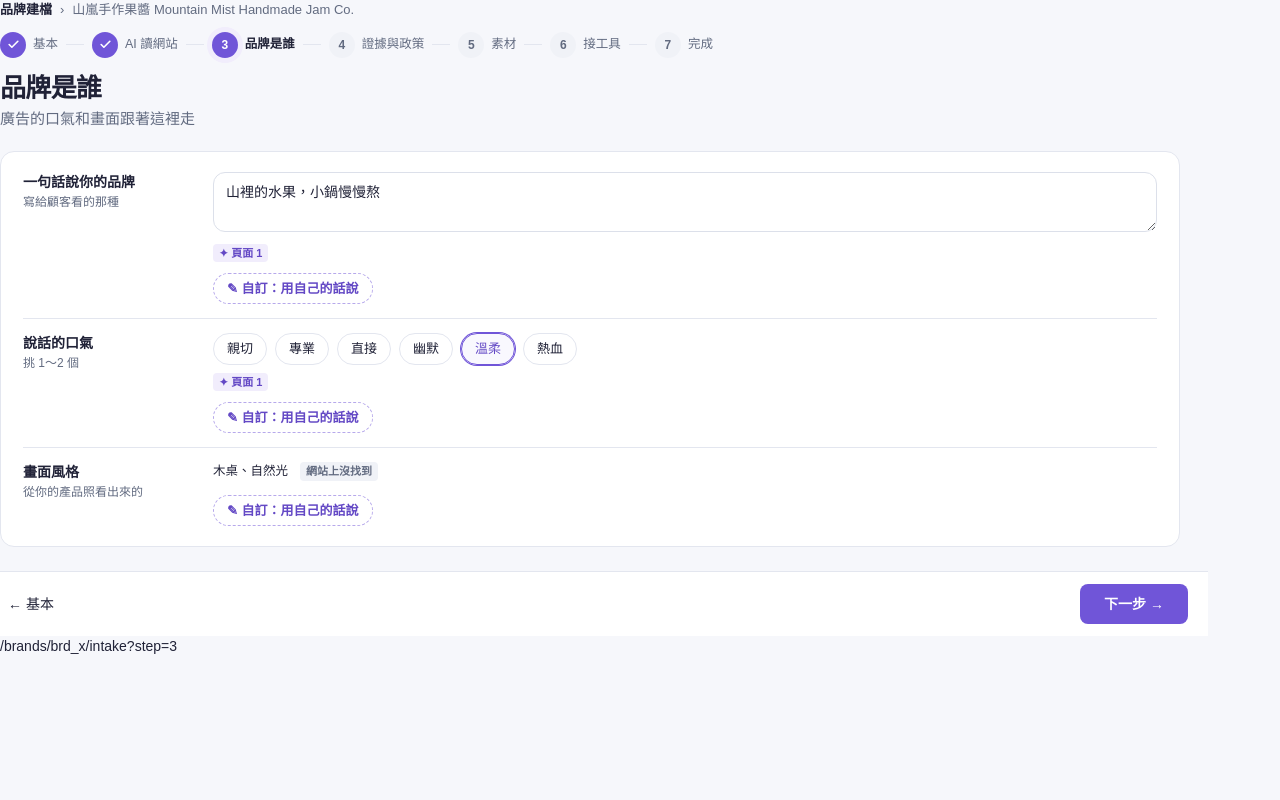
Test: IntakeWizard › 一路按下一步走到接工具
The width and height of the screenshot is (1280, 800).
Expected: the heading "品牌是誰" is shown, x1=0 y1=72 x2=101 y2=102
Click the button "下一步 →".
click(1134, 604)  # box x1=1080 y1=584 x2=1188 y2=624
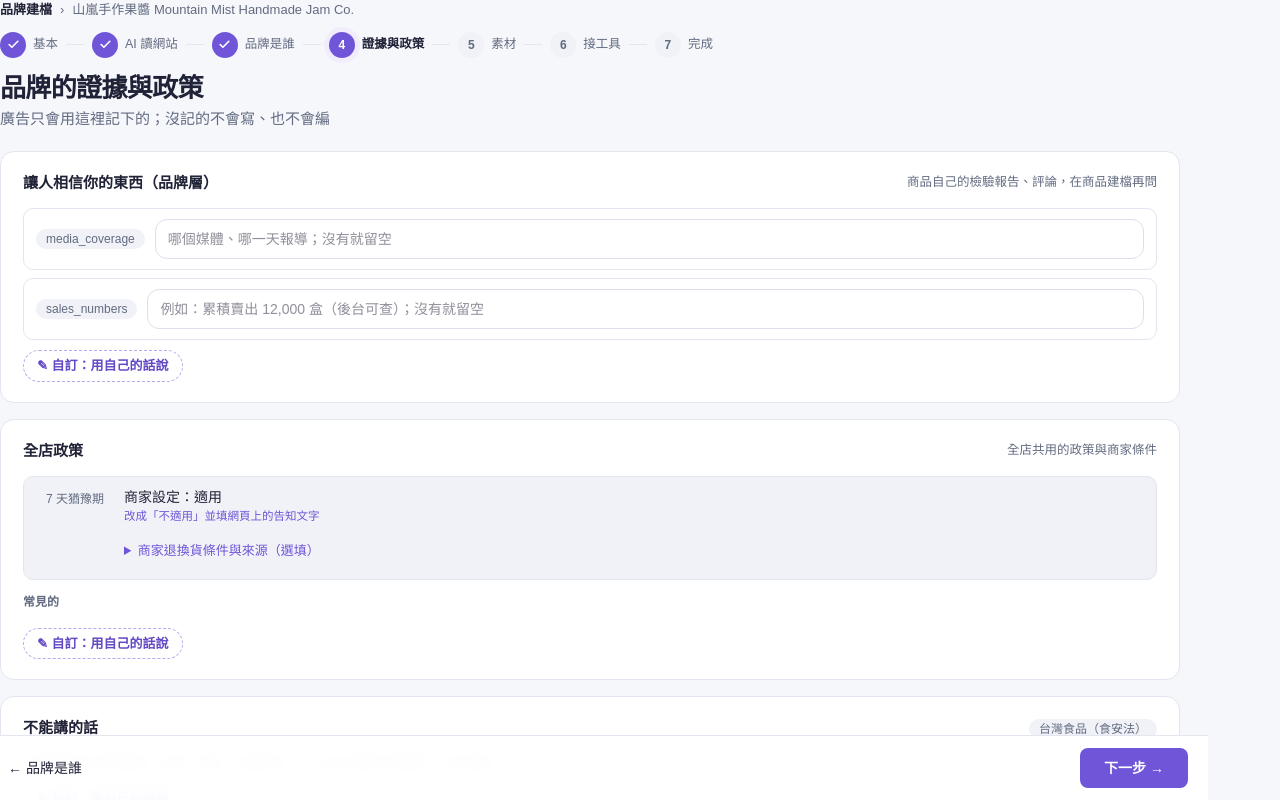
Expected: the heading "品牌的證據與政策" is shown, x1=0 y1=72 x2=203 y2=102
Click the button "下一步 →".
click(1134, 768)  # box x1=1080 y1=748 x2=1188 y2=788
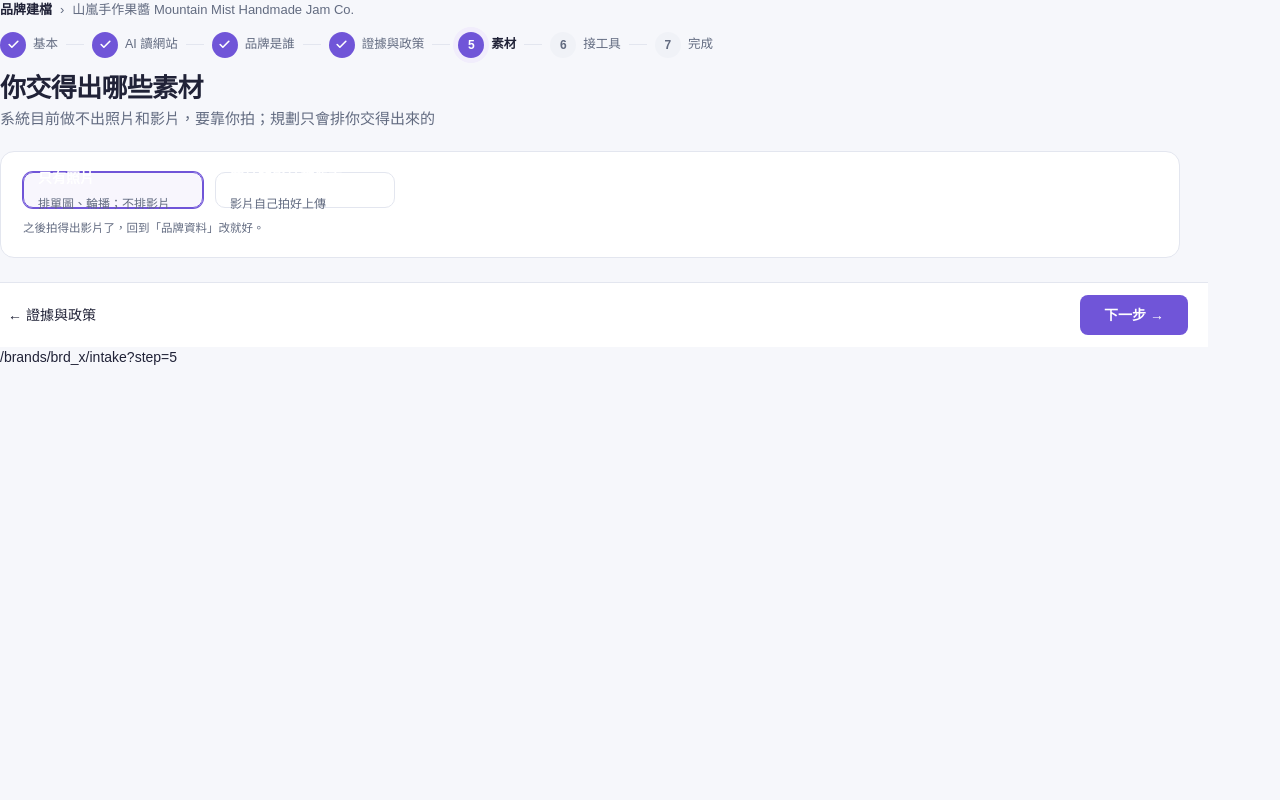
Expected: the heading "你交得出哪些素材" is shown, x1=0 y1=72 x2=203 y2=102
